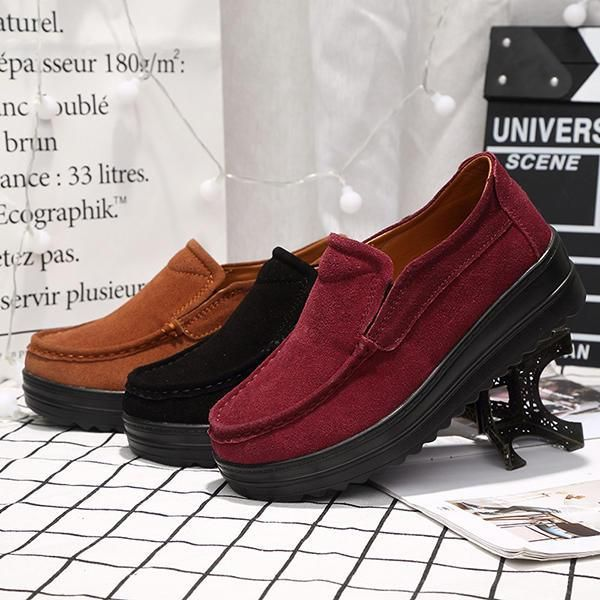gamuza: (24, 153, 553, 466)
